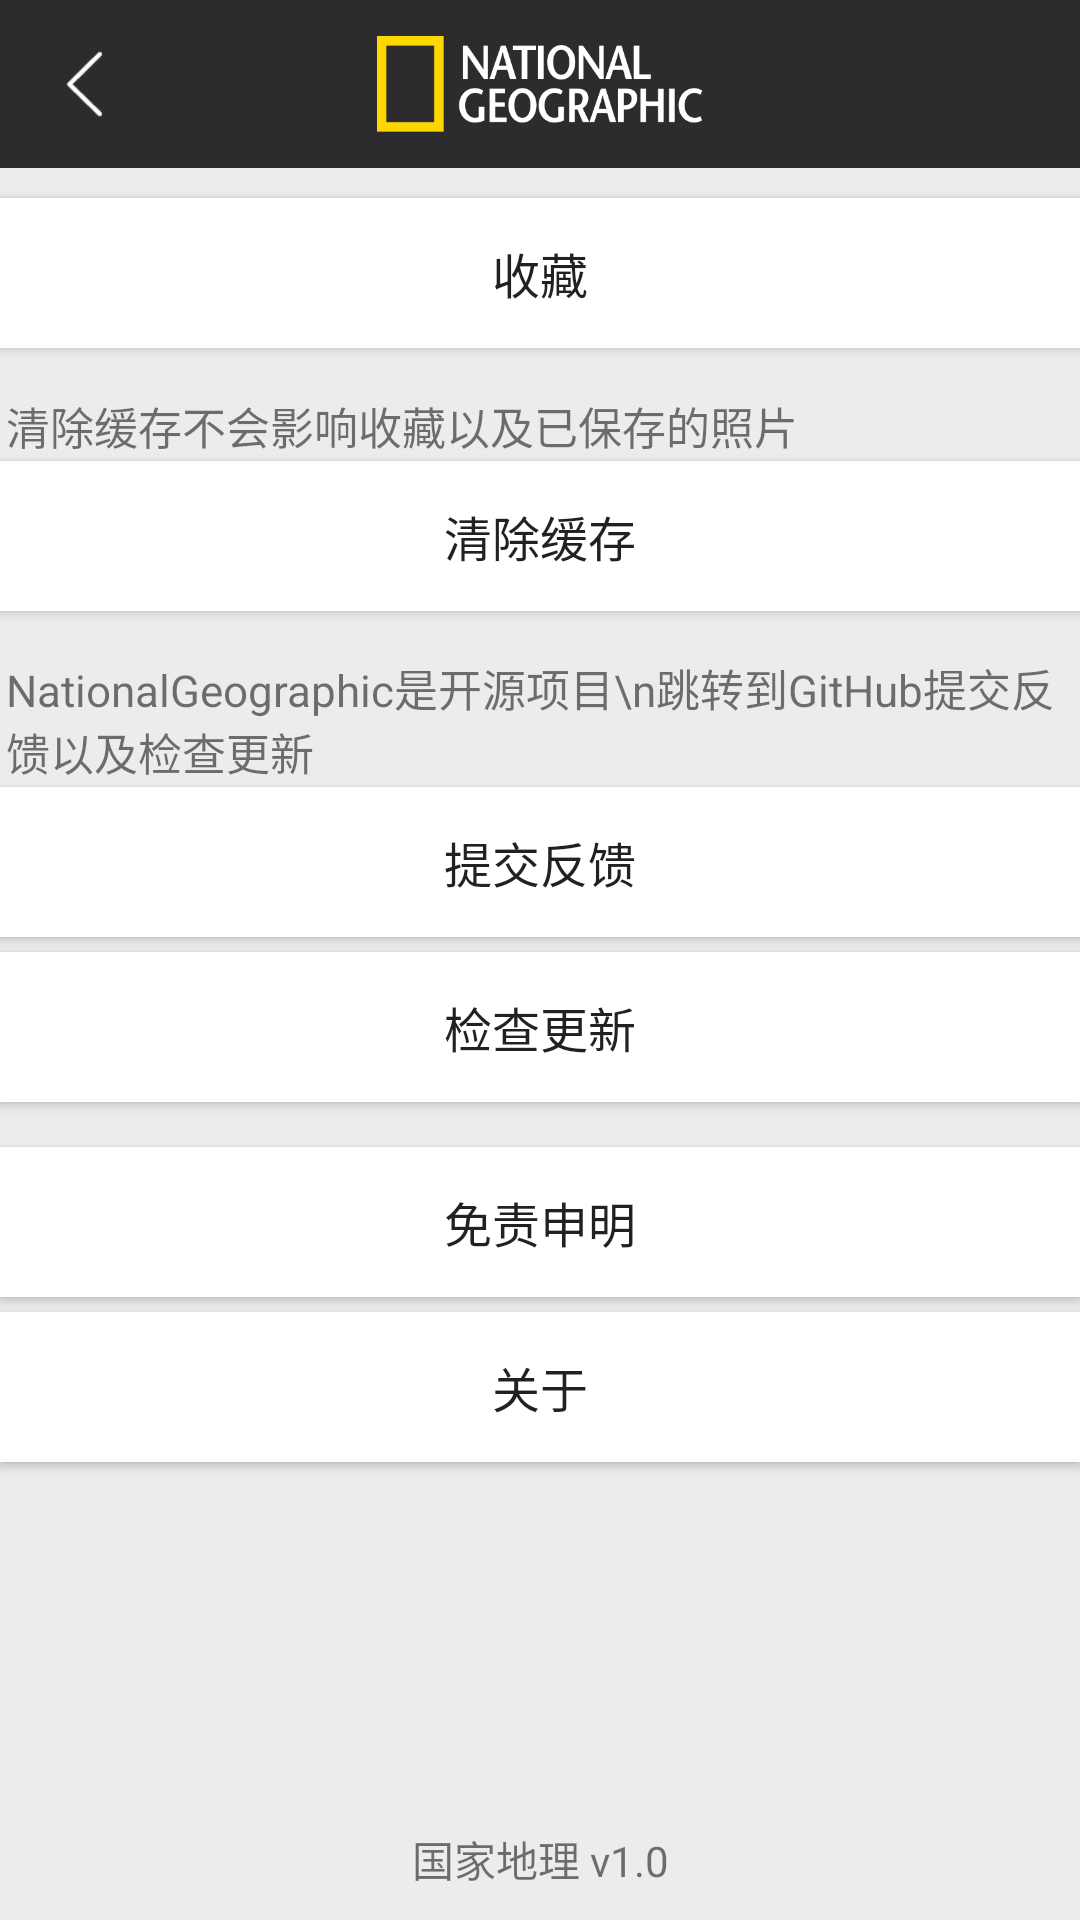

Named icons in this screenshot (1080px×1920px) and their bounding boxes, [x1,y1,x2,y2]:
back: [66,51,102,117]
